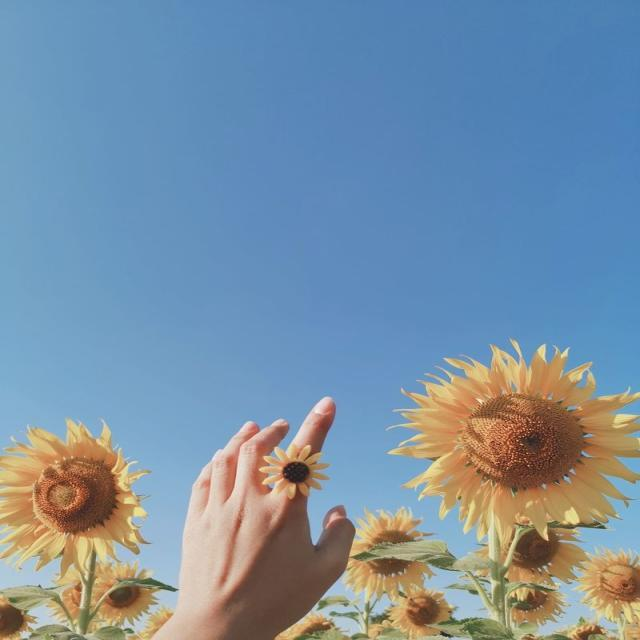sunflower: (386, 337, 640, 544), (0, 416, 152, 578), (342, 506, 436, 602), (470, 524, 588, 586), (82, 559, 162, 628), (45, 560, 128, 626), (572, 546, 638, 622), (258, 442, 330, 500), (384, 586, 454, 638), (506, 580, 568, 626), (0, 595, 37, 639), (130, 606, 176, 640), (292, 612, 336, 640), (562, 622, 616, 638), (368, 618, 396, 638)
